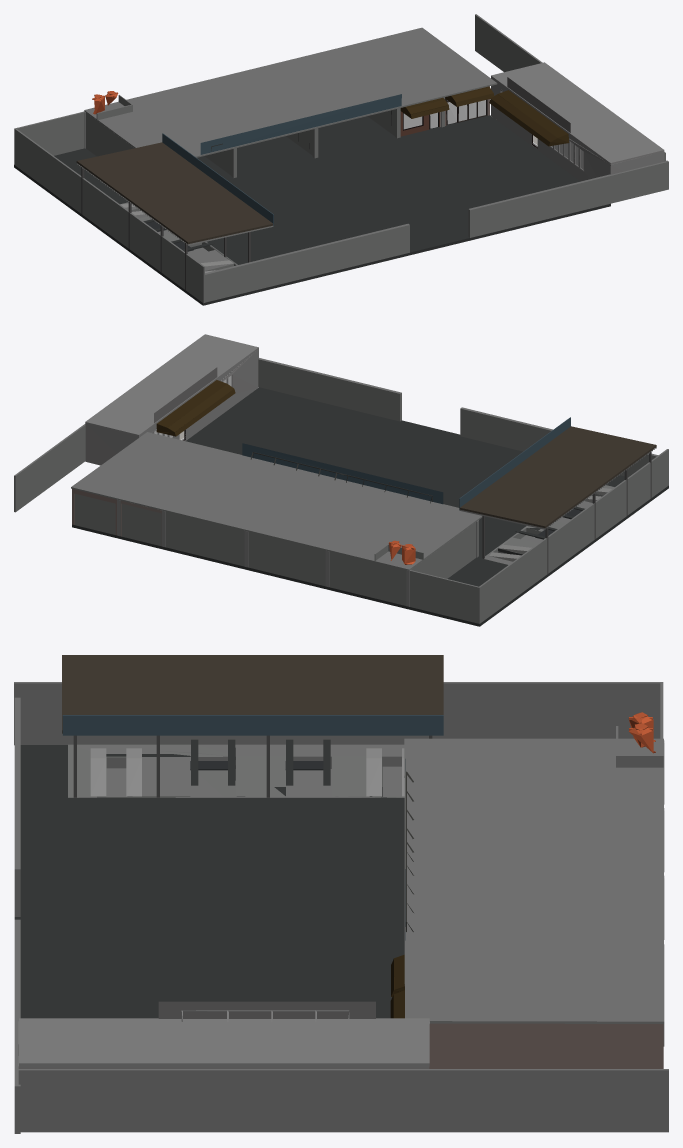
File: car-wash.zfix-v3.lod1.glb
3 renders of one model, top to bottom at view 1: azimuth 30°, elevation 25°; view 2: azimuth 150°, elevation 25°; view 3: azimuth 270°, elevation 25°, orthographic. The views are drawn at different scales.
Visible parts, largest first — view 1: Cube.001_Baked_Cube.001_Baked.006_0; view 2: Cube.001_Baked_Cube.001_Baked.006_0; view 3: Cube.001_Baked_Cube.001_Baked.006_0.
Part boxes in pixels (bbox=[...]): Cube.001_Baked_Cube.001_Baked.006_0: bbox=[14, 14, 668, 305]; Cube.001_Baked_Cube.001_Baked.006_0: bbox=[14, 334, 668, 626]; Cube.001_Baked_Cube.001_Baked.006_0: bbox=[14, 655, 668, 1133].
Size of the model in its own units: 56 by 7.42 by 39.63.
